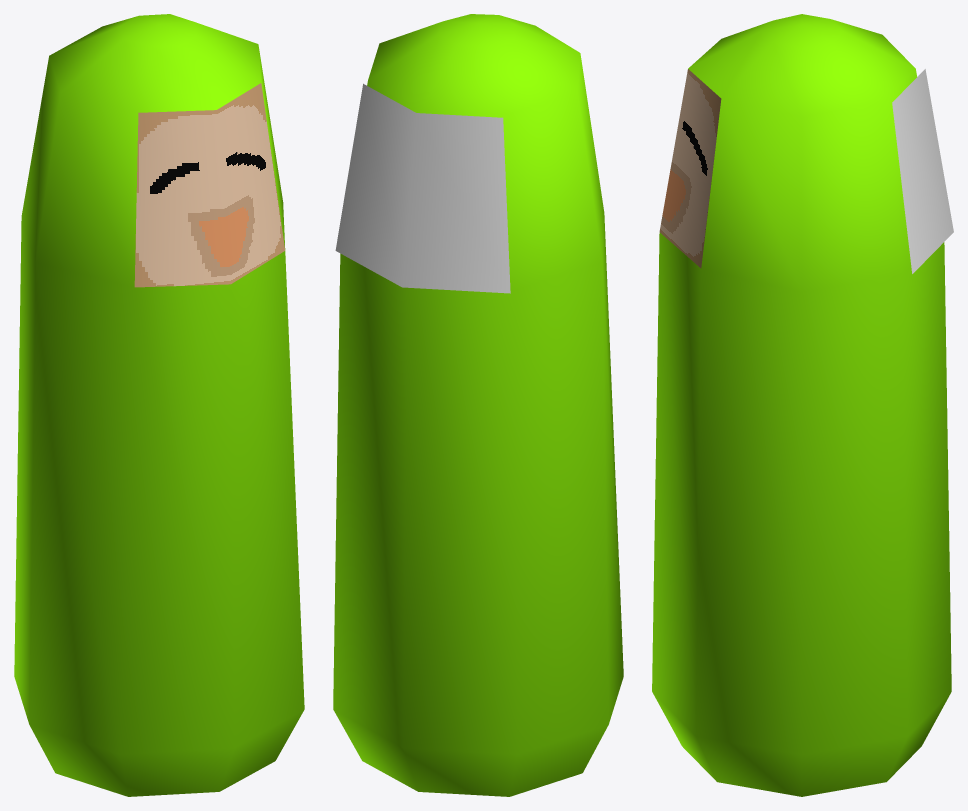
Rendered from OTA_N_10.glb.
3 renders of one model, left to right at view 1: azimuth 30°, elevation 25°; view 2: azimuth 150°, elevation 25°; view 3: azimuth 270°, elevation 25°, orthographic.
Parts seen in each view (by area): view 1: FRAME_ROOT; view 2: FRAME_ROOT; view 3: FRAME_ROOT.
Part boxes in pixels (bbox=[...]): FRAME_ROOT: bbox=[14, 14, 304, 796]; FRAME_ROOT: bbox=[333, 14, 623, 796]; FRAME_ROOT: bbox=[652, 14, 953, 796].
Bounding box in the file's own units: 1.28 × 3.4 × 1.29.
3 materials, 3 textured.
